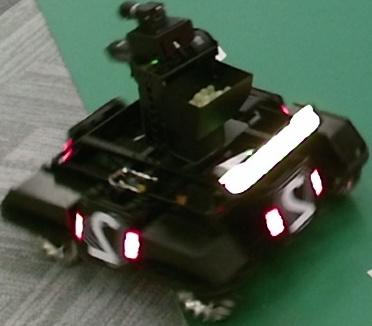armor_2: (267, 170, 323, 236), (74, 213, 140, 260)
light: (218, 103, 321, 193)
